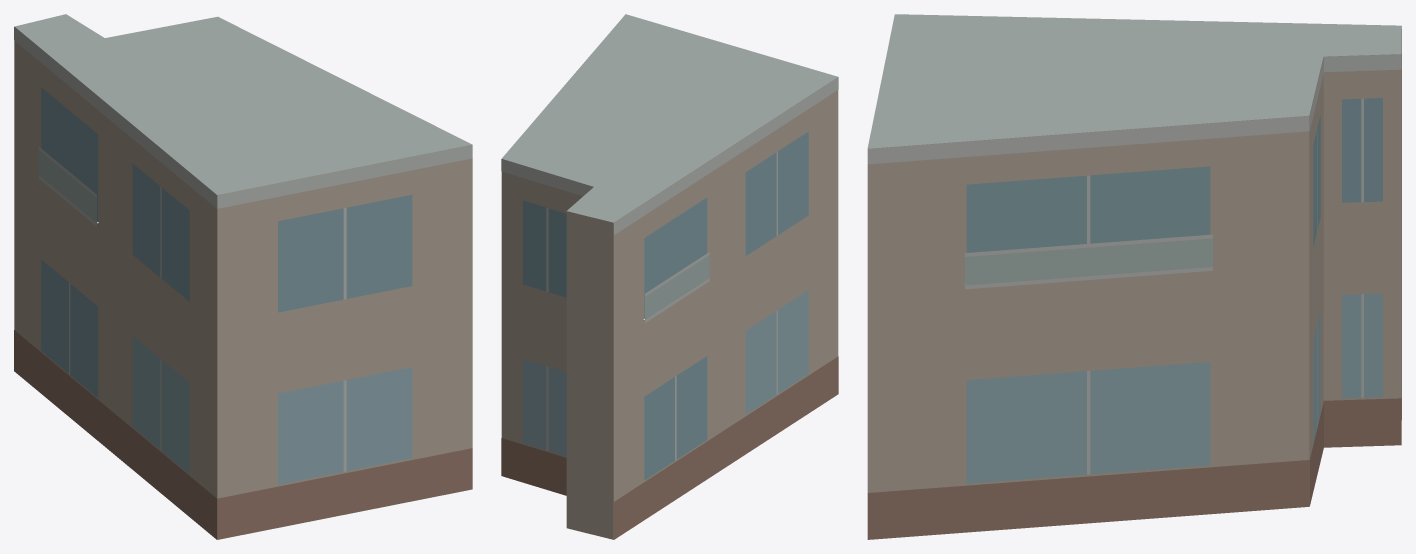
The model's file is survey-upis-32478990.glb.
3 renders of one model, left to right at view 1: azimuth 30°, elevation 25°; view 2: azimuth 150°, elevation 25°; view 3: azimuth 270°, elevation 25°, orthographic. The views are drawn at different scales.
Parts seen in each view (by area): view 1: survey-upis-32478990.tmp; view 2: survey-upis-32478990.tmp; view 3: survey-upis-32478990.tmp.
Part boxes in pixels (x1,y1,x2,y2): survey-upis-32478990.tmp: [14, 14, 472, 539]; survey-upis-32478990.tmp: [501, 14, 838, 539]; survey-upis-32478990.tmp: [867, 14, 1401, 539].
Size of the model in its own units: 4.52 by 6.1 by 7.56.
